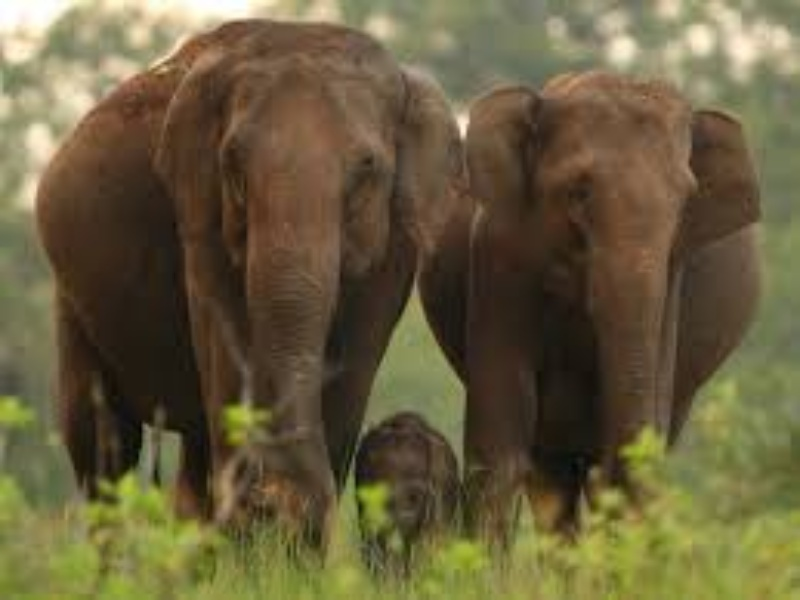elephant: (23, 31, 456, 437), (464, 1, 800, 469)
